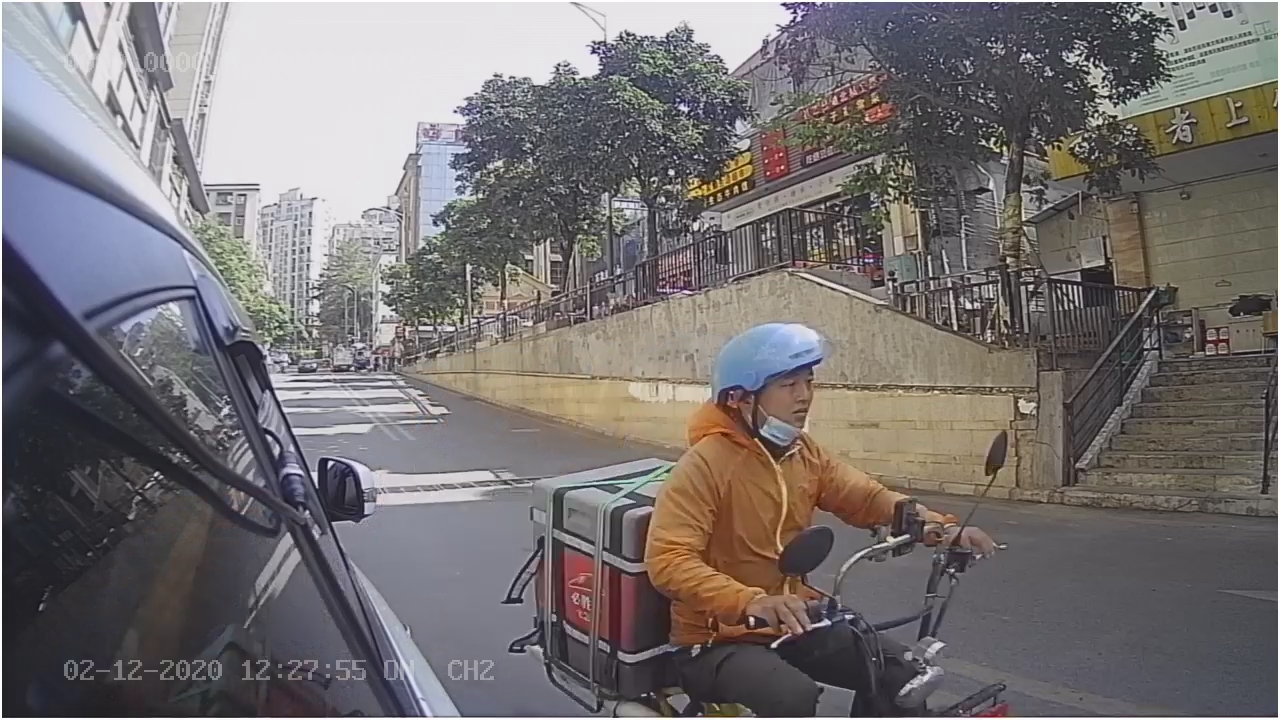person: (647, 316, 1000, 641)
